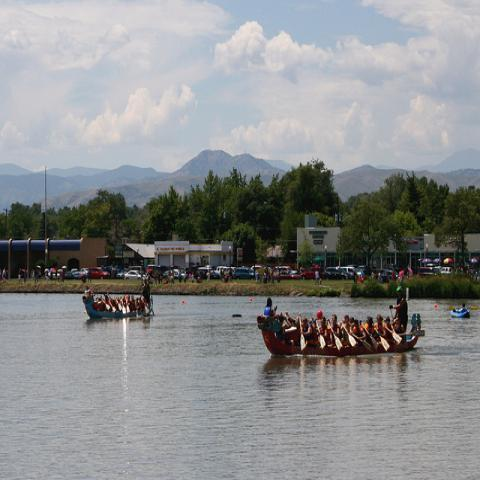car: (44, 259, 456, 283), (325, 267, 352, 280), (232, 268, 256, 280), (90, 267, 110, 281), (124, 270, 146, 280), (273, 270, 292, 280), (161, 265, 173, 277), (222, 267, 236, 277), (210, 270, 220, 280), (80, 267, 88, 279), (290, 272, 302, 279), (72, 272, 82, 280), (182, 267, 192, 274), (174, 272, 178, 278)
